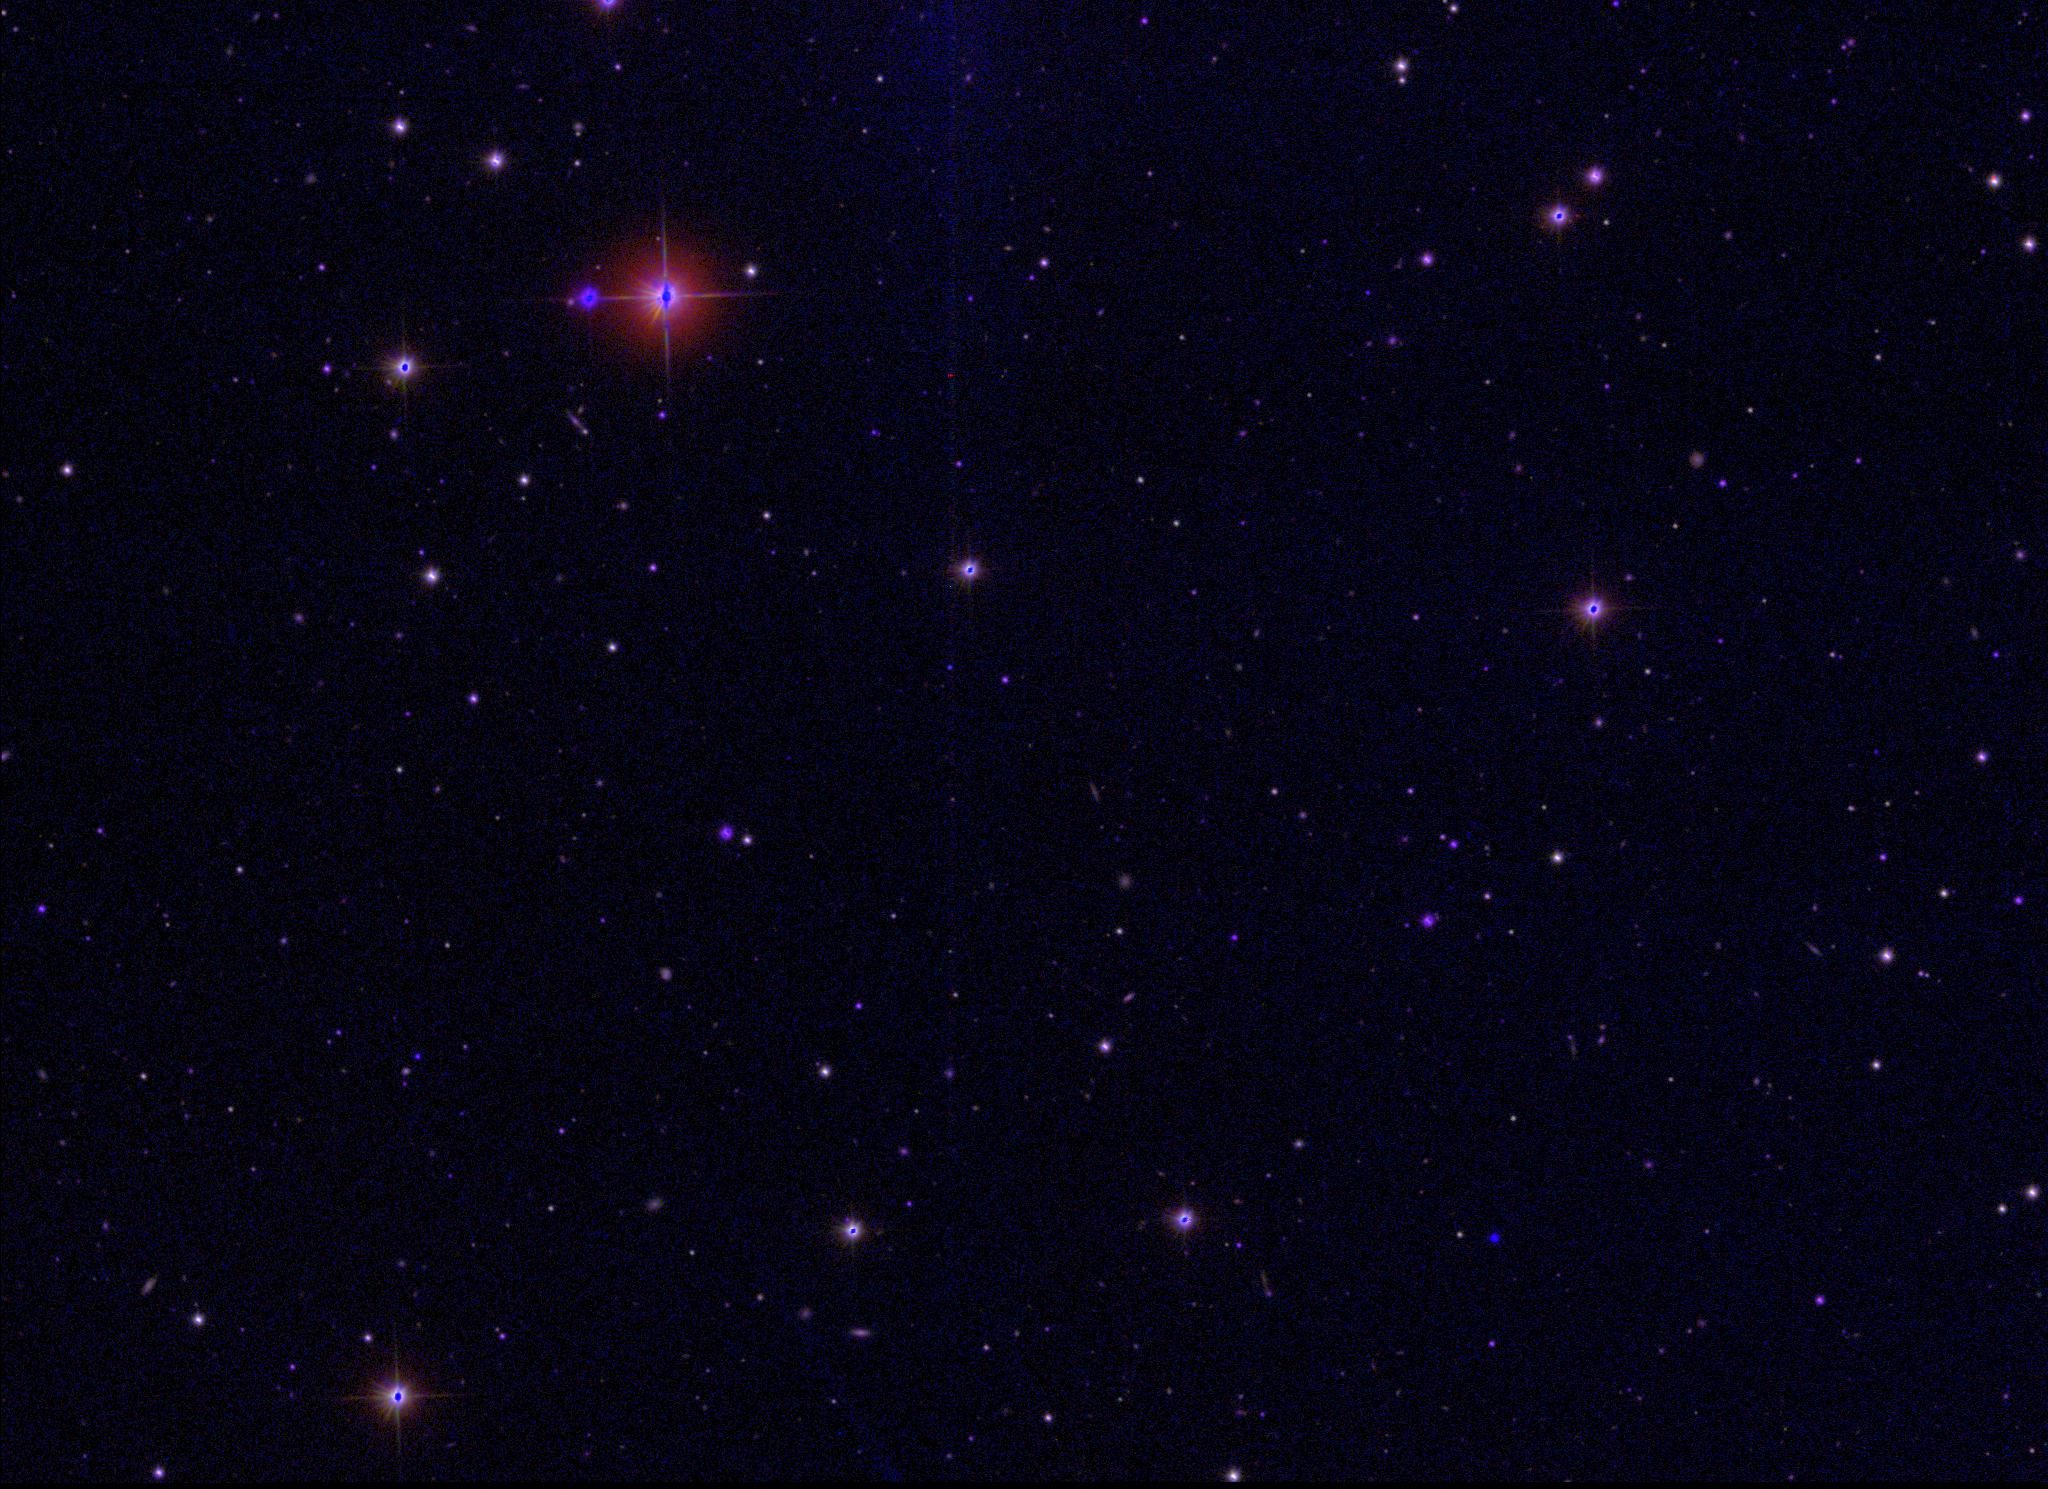L: (1488, 1231, 1503, 1246)
